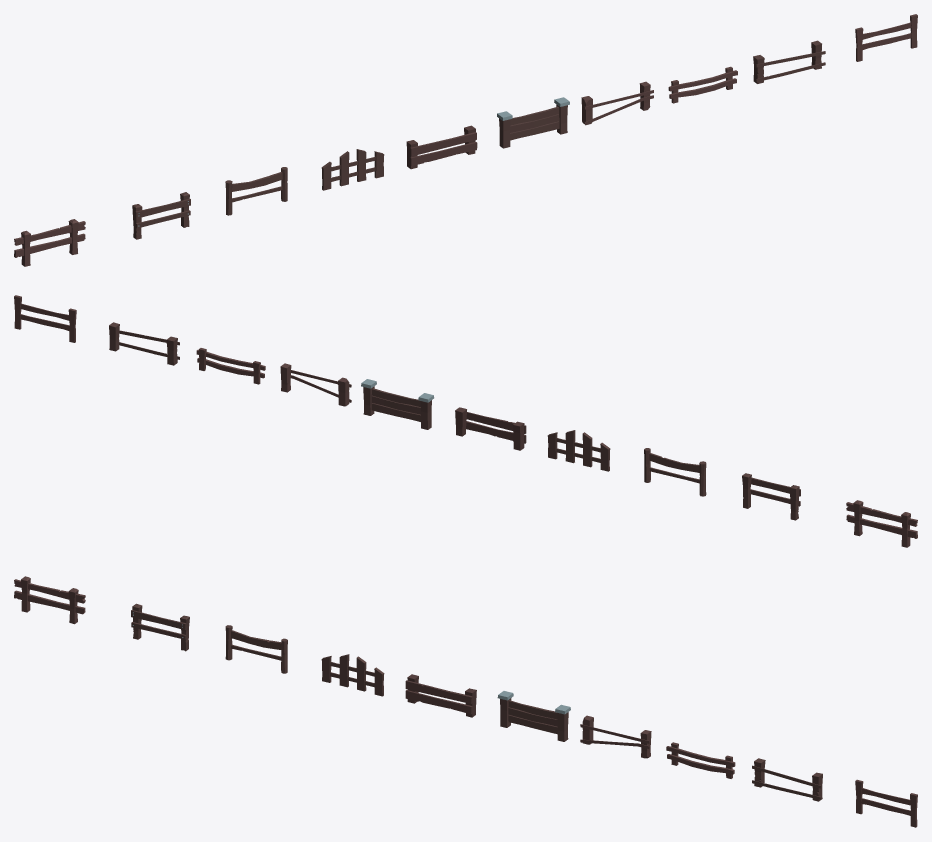
File: Fence_SplitParts.fbx
3 views of the same model, one above another, from view 1: azimuth 30°, elevation 25°; view 2: azimuth 150°, elevation 25°; view 3: azimuth 330°, elevation 25° (orthographic).
Visible parts, largest first — view 1: fence.004, fence.005, fence, fence.007, fence.001, fence.002, fence.009, fence.008; view 2: fence.005, fence, fence.004, fence.007, fence.002, fence.009, fence.001; view 3: fence.004, fence.005, fence, fence.007, fence.001, fence.002, fence.009, fence.008.
Boxes of the visible parts, x1=… form: fence.004: x1=410, y1=132, x2=477, y2=165; fence.005: x1=510, y1=106, x2=559, y2=140; fence: x1=14, y1=221, x2=85, y2=257; fence.007: x1=668, y1=70, x2=737, y2=98; fence.001: x1=135, y1=198, x2=190, y2=228; fence.002: x1=232, y1=172, x2=282, y2=202; fence.009: x1=862, y1=22, x2=911, y2=49; fence.008: x1=756, y1=51, x2=825, y2=81; fence.005: x1=371, y1=388, x2=420, y2=421; fence: x1=846, y1=502, x2=917, y2=538; fence.004: x1=466, y1=412, x2=526, y2=443; fence.007: x1=196, y1=349, x2=265, y2=378; fence.002: x1=649, y1=453, x2=699, y2=483; fence.009: x1=20, y1=303, x2=69, y2=330; fence.001: x1=750, y1=477, x2=800, y2=506; fence.004: x1=405, y1=680, x2=472, y2=714; fence.005: x1=508, y1=700, x2=557, y2=734; fence: x1=14, y1=579, x2=85, y2=614; fence.007: x1=666, y1=746, x2=735, y2=774; fence.001: x1=131, y1=610, x2=186, y2=639; fence.002: x1=231, y1=630, x2=281, y2=660; fence.009: x1=861, y1=788, x2=910, y2=815; fence.008: x1=752, y1=765, x2=821, y2=799.
Bounding box in the file's own units: 5672 × 208 × 70.49.
